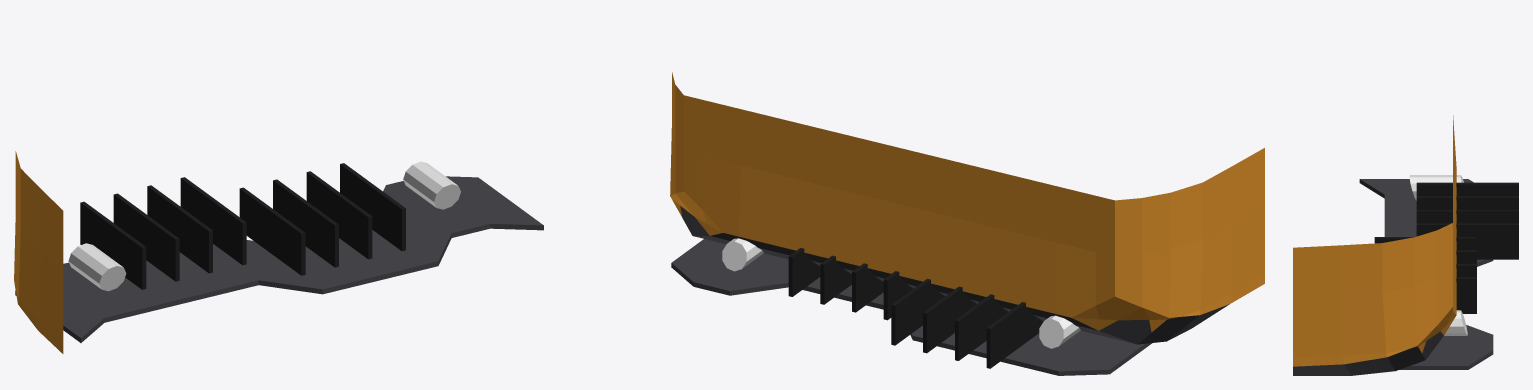
File: protoCoupe_rearBumper_kurogane.glb
3 views of the same model, side by side, from view 1: azimuth 30°, elevation 25°; view 2: azimuth 150°, elevation 25°; view 3: azimuth 270°, elevation 25° (orthographic). The views are drawn at different scales.
Parts seen in each view (by area): view 1: rearBumper_kurogane; view 2: rearBumper_kurogane; view 3: rearBumper_kurogane.
Part boxes in pixels (x1=…): rearBumper_kurogane: x1=14, y1=151, x2=543, y2=353; rearBumper_kurogane: x1=670, y1=72, x2=1264, y2=375; rearBumper_kurogane: x1=1293, y1=115, x2=1518, y2=375.
Size of the model in its own units: 1.73 by 0.5025 by 0.7062.
